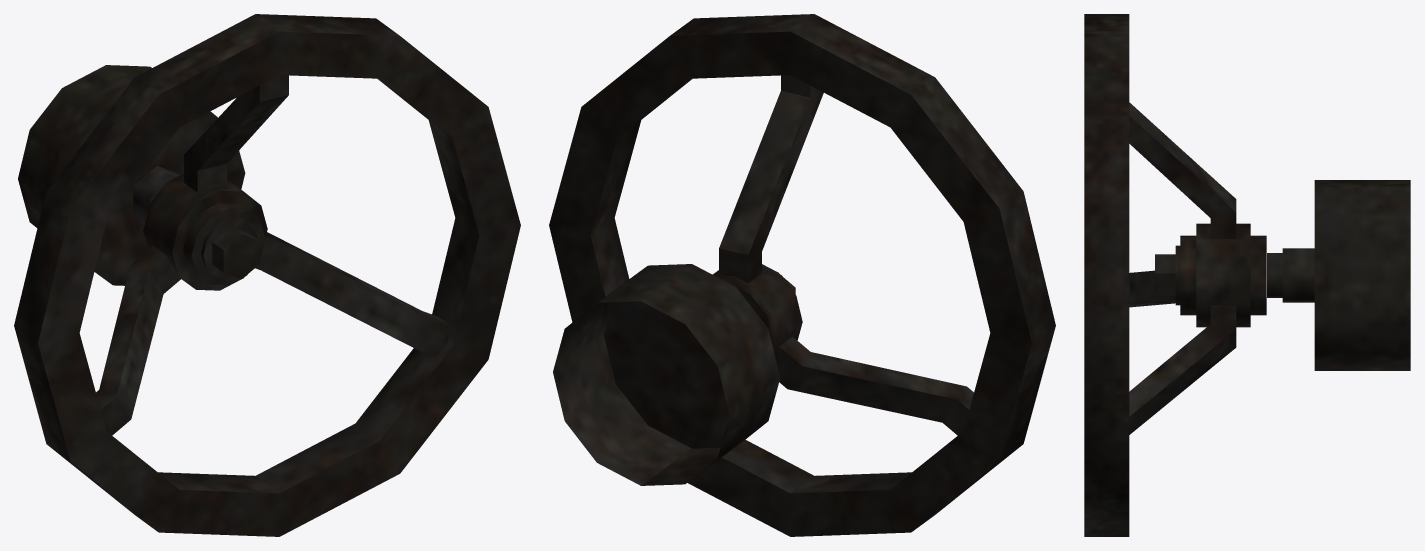
File: pipe_valve_holder_large_2_1.obj
The picture shows the model from 3 angles, left to right: view 1: azimuth 30°, elevation 25°; view 2: azimuth 150°, elevation 25°; view 3: azimuth 270°, elevation 25°; orthographic projection. The views are drawn at different scales.
Visible parts, largest first — view 1: valve_mp_1_1, pipe_valve_holder_large_2_1; view 2: valve_mp_1_1, pipe_valve_holder_large_2_1; view 3: valve_mp_1_1, pipe_valve_holder_large_2_1.
Boxes of the visible parts, x1,y1,x2,y2 form: valve_mp_1_1: (14, 14, 520, 536); pipe_valve_holder_large_2_1: (18, 65, 245, 285); valve_mp_1_1: (549, 14, 1055, 536); pipe_valve_holder_large_2_1: (553, 264, 780, 485); valve_mp_1_1: (1084, 14, 1282, 536); pipe_valve_holder_large_2_1: (1282, 180, 1410, 370).
Size of the model in its own units: 0.3283 by 0.3283 by 0.2041.
